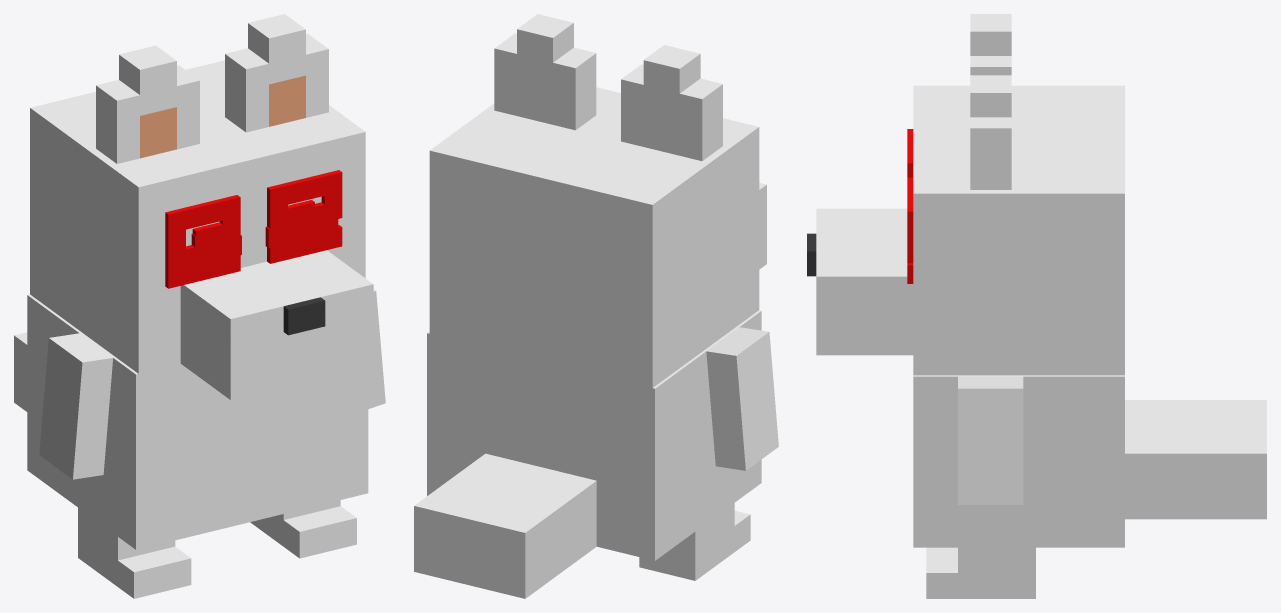
3 views of the same model, side by side, from view 1: azimuth 30°, elevation 25°; view 2: azimuth 150°, elevation 25°; view 3: azimuth 270°, elevation 25° (orthographic). The views are drawn at different scales.
Parts seen in each view (by area): view 1: Ch_33_Head, Ch_33, Ch_33_Ear, Ch_33_Hand_L, Ch_33_Leg_L, Ch_33_Eye_03_R, Ch_33_Eye_03_L, Ch_33_Leg_R, Ch_33_Eye_02, Ch_33_Hand_R, Ch_33_Eye_01, Ch_33_Tail; view 2: Ch_33_Head, Ch_33, Ch_33_Tail, Ch_33_Ear, Ch_33_Hand_L, Ch_33_Leg_L; view 3: Ch_33_Head, Ch_33, Ch_33_Tail, Ch_33_Hand_R, Ch_33_Ear, Ch_33_Leg_R, Ch_33_Eye_03_R.
Part boxes in pixels (x1=…): Ch_33_Head: x1=30, y1=60, x2=373, y2=399; Ch_33: x1=27, y1=294, x2=368, y2=549; Ch_33_Ear: x1=96, y1=14, x2=328, y2=163; Ch_33_Hand_L: x1=39, y1=333, x2=112, y2=479; Ch_33_Leg_L: x1=78, y1=508, x2=191, y2=598; Ch_33_Eye_03_R: x1=267, y1=170, x2=342, y2=263; Ch_33_Eye_03_L: x1=165, y1=195, x2=240, y2=288; Ch_33_Leg_R: x1=250, y1=500, x2=356, y2=558; Ch_33_Eye_02: x1=186, y1=219, x2=338, y2=265; Ch_33_Hand_R: x1=368, y1=289, x2=385, y2=408; Ch_33_Eye_01: x1=192, y1=200, x2=314, y2=254; Ch_33_Tail: x1=14, y1=332, x2=27, y2=411; Ch_33_Head: x1=429, y1=87, x2=766, y2=387; Ch_33: x1=427, y1=310, x2=761, y2=560; Ch_33_Tail: x1=414, y1=453, x2=596, y2=598; Ch_33_Ear: x1=494, y1=14, x2=722, y2=160; Ch_33_Hand_L: x1=706, y1=327, x2=778, y2=470; Ch_33_Leg_L: x1=639, y1=503, x2=750, y2=580; Ch_33_Head: x1=807, y1=85, x2=1124, y2=375; Ch_33: x1=913, y1=375, x2=1124, y2=547; Ch_33_Tail: x1=1125, y1=400, x2=1266, y2=519; Ch_33_Hand_R: x1=958, y1=376, x2=1023, y2=504; Ch_33_Ear: x1=970, y1=14, x2=1011, y2=189; Ch_33_Leg_R: x1=926, y1=547, x2=1035, y2=598; Ch_33_Eye_03_R: x1=907, y1=177, x2=913, y2=283.
Size of the model in its own units: 7.26 by 11.2 by 9.48.
